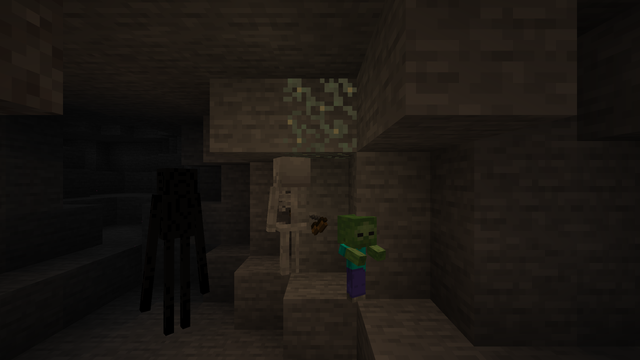endermens: (148, 162, 201, 339)
squelettes: (271, 157, 309, 278)
zombies: (344, 225, 369, 303)
